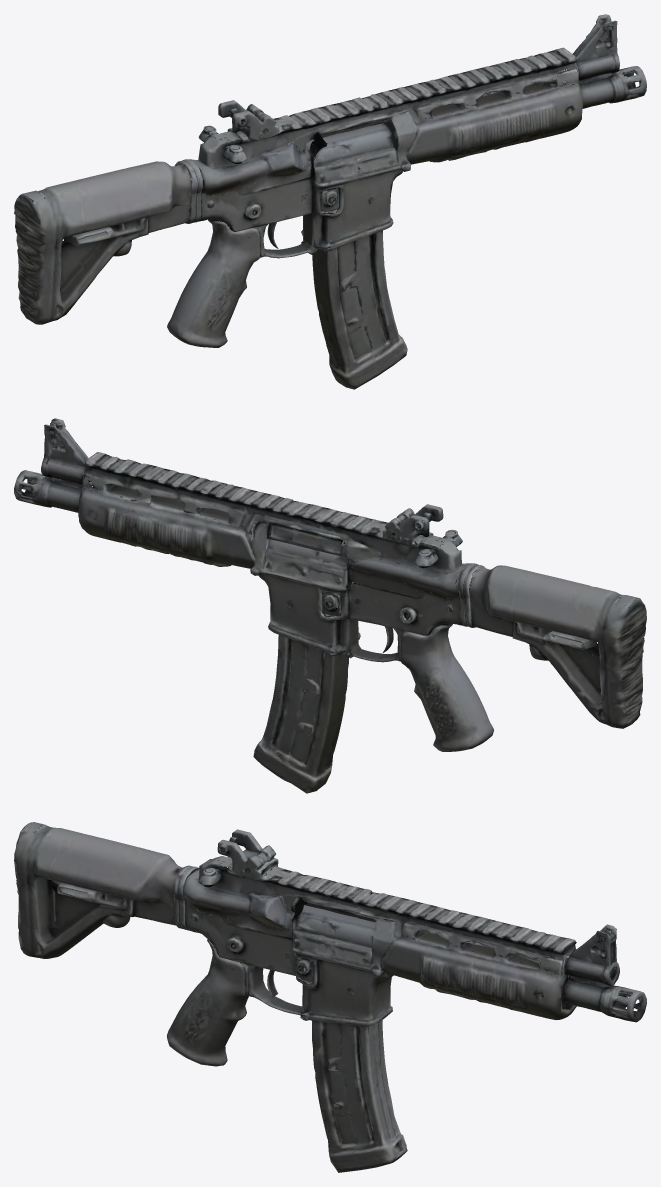
Rendered from gun.glb.
3 renders of one model, top to bottom at view 1: azimuth 30°, elevation 25°; view 2: azimuth 150°, elevation 25°; view 3: azimuth 330°, elevation 25°, orthographic.
Visible parts, largest first — view 1: tripo_part_1, tripo_part_22, tripo_part_21, tripo_part_25, tripo_part_5, tripo_part_20, tripo_part_11, tripo_part_19, tripo_part_8, tripo_part_29, tripo_part_30, tripo_part_10 (+2 smaller); view 2: tripo_part_1, tripo_part_22, tripo_part_21, tripo_part_25, tripo_part_5, tripo_part_20, tripo_part_19, tripo_part_11, tripo_part_29, tripo_part_8, tripo_part_30, tripo_part_10 (+3 smaller); view 3: tripo_part_1, tripo_part_21, tripo_part_22, tripo_part_25, tripo_part_5, tripo_part_20, tripo_part_19, tripo_part_11, tripo_part_8, tripo_part_30, tripo_part_29, tripo_part_10 (+4 smaller).
Part boxes in pixels (<box>): tripo_part_1: <box>14,161,191,324</box>; tripo_part_22: <box>198,47,577,167</box>; tripo_part_21: <box>312,230,407,389</box>; tripo_part_25: <box>391,71,583,164</box>; tripo_part_5: <box>167,219,260,347</box>; tripo_part_20: <box>291,110,419,215</box>; tripo_part_11: <box>189,151,313,232</box>; tripo_part_19: <box>300,170,400,254</box>; tripo_part_8: <box>186,141,306,196</box>; tripo_part_29: <box>573,14,619,82</box>; tripo_part_30: <box>569,66,646,108</box>; tripo_part_10: <box>212,100,278,143</box>; tripo_part_1: <box>470,565,646,728</box>; tripo_part_22: <box>83,452,461,573</box>; tripo_part_21: <box>253,635,348,793</box>; tripo_part_25: <box>78,484,268,568</box>; tripo_part_5: <box>398,624,493,751</box>; tripo_part_20: <box>250,514,366,619</box>; tripo_part_19: <box>258,574,361,657</box>; tripo_part_11: <box>346,572,471,635</box>; tripo_part_29: <box>41,418,92,488</box>; tripo_part_8: <box>351,558,476,597</box>; tripo_part_30: <box>14,470,95,512</box>; tripo_part_10: <box>382,504,443,546</box>; tripo_part_1: <box>14,823,189,958</box>; tripo_part_21: <box>312,1020,407,1172</box>; tripo_part_22: <box>199,856,576,963</box>; tripo_part_25: <box>382,931,576,1019</box>; tripo_part_5: <box>167,939,248,1066</box>; tripo_part_20: <box>291,905,408,988</box>; tripo_part_19: <box>298,954,392,1027</box>; tripo_part_11: <box>186,905,314,975</box>; tripo_part_8: <box>183,869,291,928</box>; tripo_part_30: <box>563,977,646,1022</box>; tripo_part_29: <box>565,924,619,986</box>; tripo_part_10: <box>217,829,278,879</box>.
Size of the model in its own units: 0.9996 by 0.4726 by 0.1082.
Materials: 31 (31 with a texture image).
